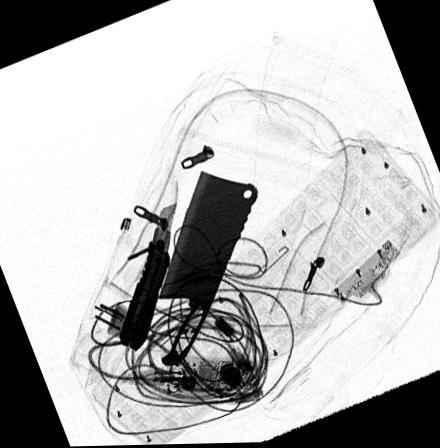Knife: (119, 201, 178, 351)
